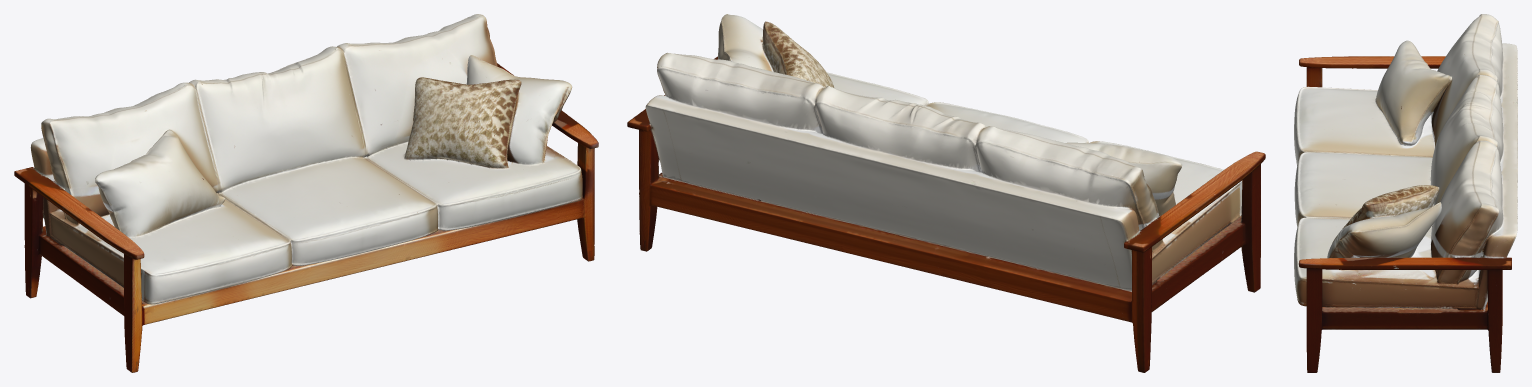
3 views of the same model, side by side, from view 1: azimuth 30°, elevation 25°; view 2: azimuth 150°, elevation 25°; view 3: azimuth 270°, elevation 25° (orthographic). The views are drawn at different scales.
Parts seen in each view (by area): view 1: Mesh_0; view 2: Mesh_0; view 3: Mesh_0.
Boxes of the visible parts, <box> form: Mesh_0: <box>14,14,598,372</box>; Mesh_0: <box>627,14,1265,372</box>; Mesh_0: <box>1294,14,1517,372</box>.
Size of the model in its own units: 2.12 by 0.78 by 0.9564.
1 material, 1 textured.
